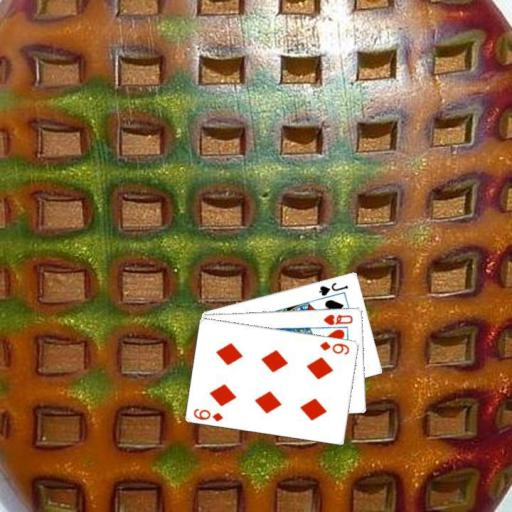6D: (317, 339, 351, 357), (191, 405, 225, 423)
JS: (316, 279, 349, 297)
QH: (321, 311, 354, 326)
